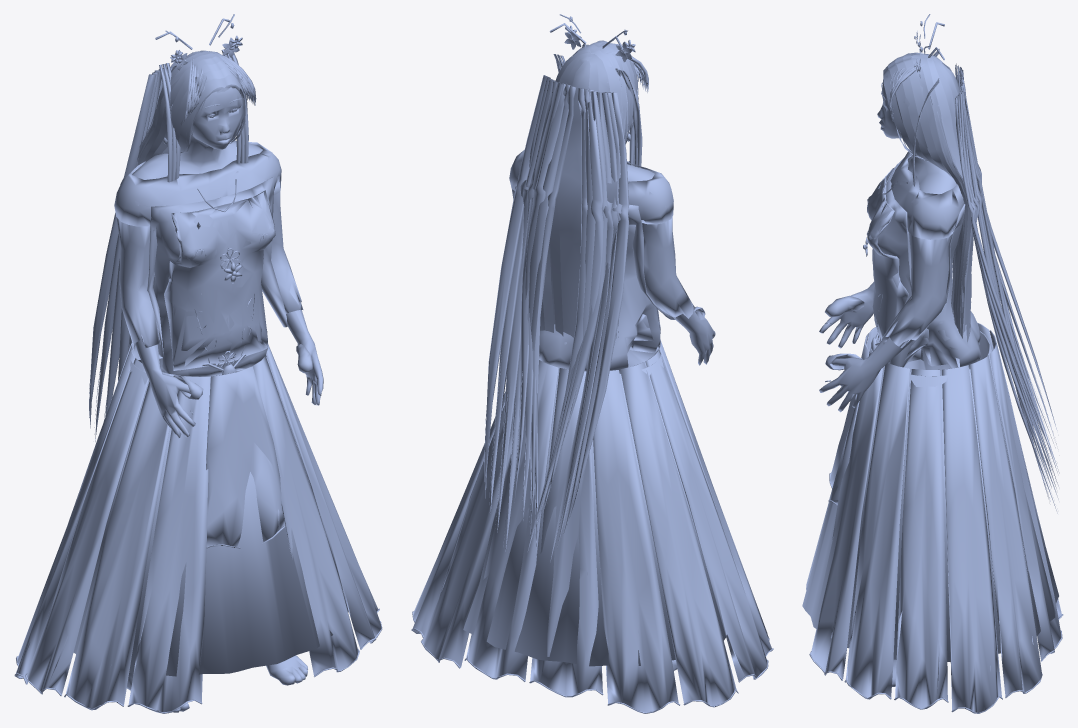
File: yueli-moon-echo.glb
3 views of the same model, side by side, from view 1: azimuth 30°, elevation 25°; view 2: azimuth 150°, elevation 25°; view 3: azimuth 270°, elevation 25° (orthographic). The views are drawn at different scales.
Visible parts, largest first — view 1: Yueli moon echo geometry; view 2: Yueli moon echo geometry; view 3: Yueli moon echo geometry.
Boxes of the visible parts, x1,y1,x2,y2 form: Yueli moon echo geometry: (14,14,382,713); Yueli moon echo geometry: (411,14,773,713); Yueli moon echo geometry: (802,14,1063,713).
Size of the model in its own units: 0.9641 by 1.77 by 0.6721.
